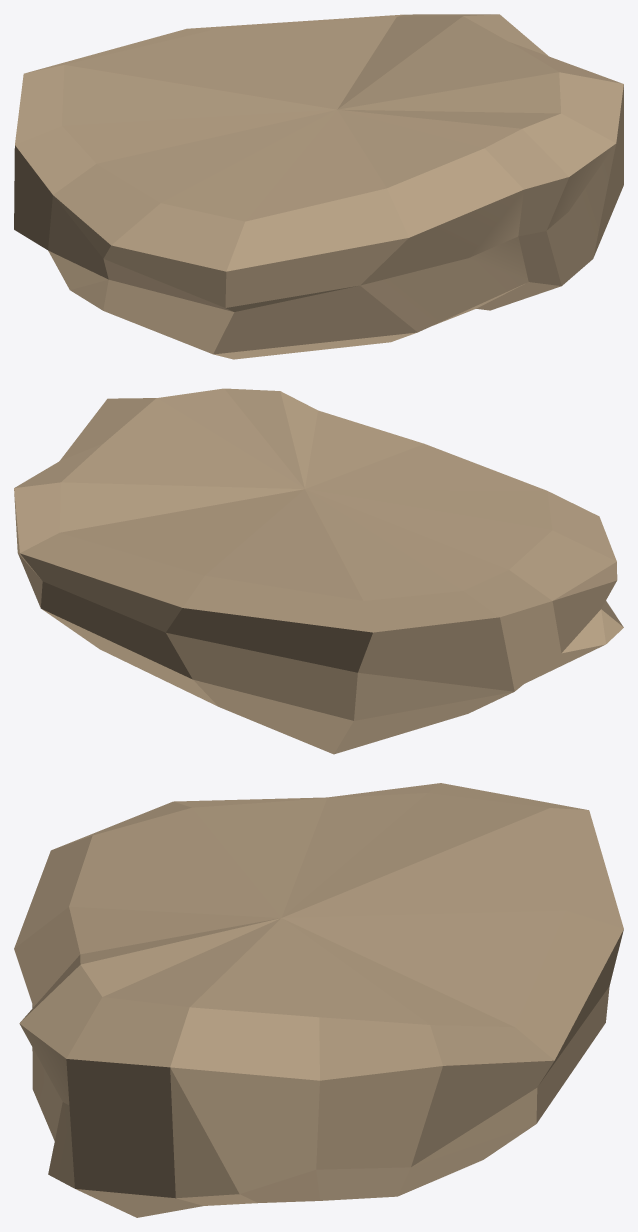
File: SM_Chr_Attach_Rope_Wrap_01.fbx
3 views of the same model, one above another, from view 1: azimuth 30°, elevation 25°; view 2: azimuth 150°, elevation 25°; view 3: azimuth 270°, elevation 25° (orthographic). The views are drawn at different scales.
Parts seen in each view (by area): view 1: SM_Chr_Attach_Rope_Wrap_01; view 2: SM_Chr_Attach_Rope_Wrap_01; view 3: SM_Chr_Attach_Rope_Wrap_01.
Part boxes in pixels (x1,y1,x2,y2): SM_Chr_Attach_Rope_Wrap_01: [14, 14, 623, 359]; SM_Chr_Attach_Rope_Wrap_01: [14, 388, 623, 754]; SM_Chr_Attach_Rope_Wrap_01: [14, 783, 623, 1217].
Size of the model in its own units: 48.73 by 17.21 by 38.24.
